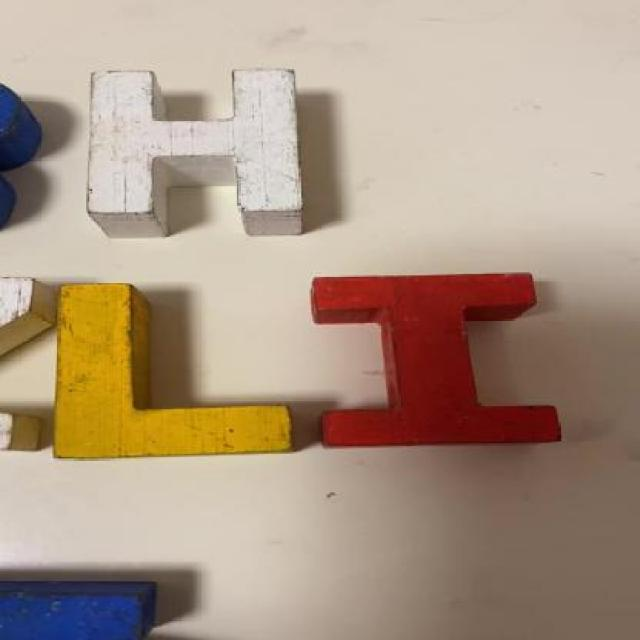H: (90, 68, 298, 235)
I: (315, 270, 563, 448)
L: (53, 284, 298, 459)
